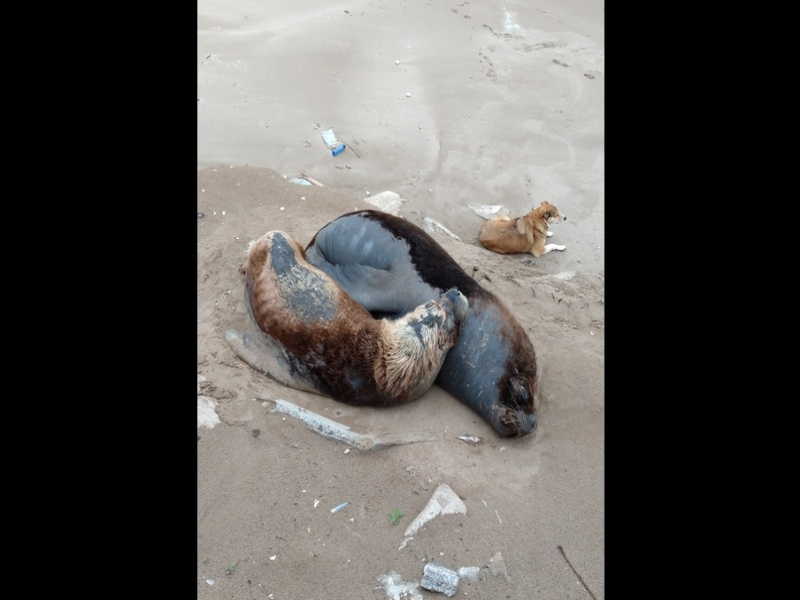dog: (475, 200, 574, 258)
